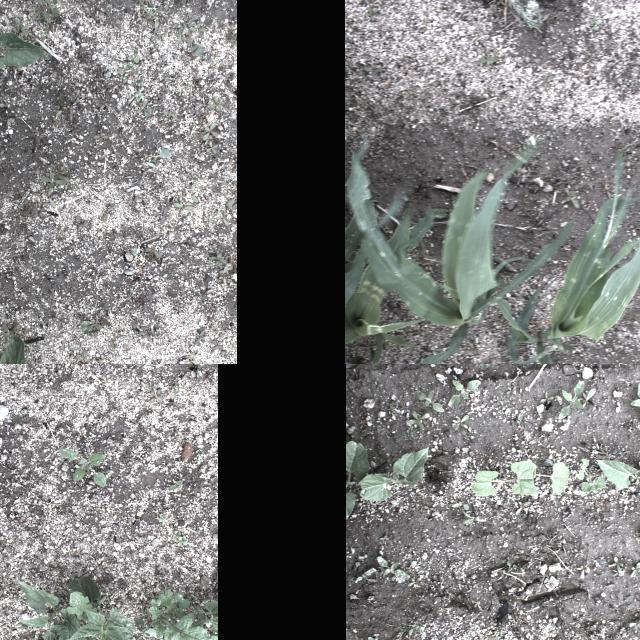crop: (345, 136, 575, 364), (495, 153, 640, 364), (345, 196, 444, 364), (18, 574, 134, 640), (358, 447, 428, 501), (147, 590, 217, 640), (470, 460, 540, 496), (0, 25, 48, 75), (346, 440, 370, 520), (0, 333, 55, 364), (595, 458, 640, 488), (528, 462, 570, 492), (578, 458, 606, 492)
weed: (57, 449, 107, 489), (558, 379, 586, 421), (503, 0, 542, 26), (448, 378, 479, 406), (376, 557, 410, 579), (415, 391, 445, 414), (28, 0, 58, 21), (408, 411, 430, 431), (135, 0, 173, 11), (39, 172, 65, 188), (0, 322, 20, 342), (182, 43, 204, 61), (630, 384, 640, 422), (118, 61, 134, 84), (476, 54, 502, 68), (81, 319, 101, 337), (581, 388, 597, 410), (143, 246, 161, 264), (136, 99, 152, 118), (100, 202, 116, 220), (354, 570, 378, 582), (207, 252, 227, 266), (210, 95, 226, 112), (50, 316, 70, 329), (76, 348, 92, 364), (452, 415, 468, 431), (502, 554, 518, 570), (204, 122, 218, 140), (14, 18, 28, 36), (564, 188, 578, 206), (217, 210, 230, 228), (184, 10, 198, 26), (126, 54, 140, 70), (172, 202, 194, 212), (152, 20, 162, 42), (588, 14, 600, 32), (610, 556, 622, 574), (363, 64, 383, 74), (365, 8, 379, 22), (406, 425, 420, 439), (194, 330, 206, 346), (189, 22, 205, 34), (145, 9, 161, 21), (207, 140, 220, 154), (46, 190, 56, 208), (190, 182, 198, 204), (542, 72, 554, 86), (176, 532, 188, 546), (516, 502, 530, 514), (576, 566, 590, 578), (450, 501, 470, 509), (408, 626, 424, 636), (185, 351, 197, 364), (150, 389, 163, 401), (541, 392, 553, 404), (432, 430, 444, 442), (163, 0, 174, 13), (630, 563, 640, 577), (378, 536, 388, 550), (406, 577, 420, 587), (169, 482, 183, 491), (135, 91, 145, 103), (472, 600, 482, 612), (629, 619, 640, 629), (357, 418, 367, 428), (507, 602, 519, 610), (370, 381, 382, 389), (467, 364, 490, 368), (460, 430, 470, 438), (507, 386, 517, 394), (371, 568, 382, 574), (464, 518, 474, 524), (493, 630, 503, 636), (413, 499, 419, 508), (637, 460, 640, 477), (130, 248, 136, 256), (424, 506, 436, 510), (418, 595, 426, 601), (367, 638, 389, 640)
